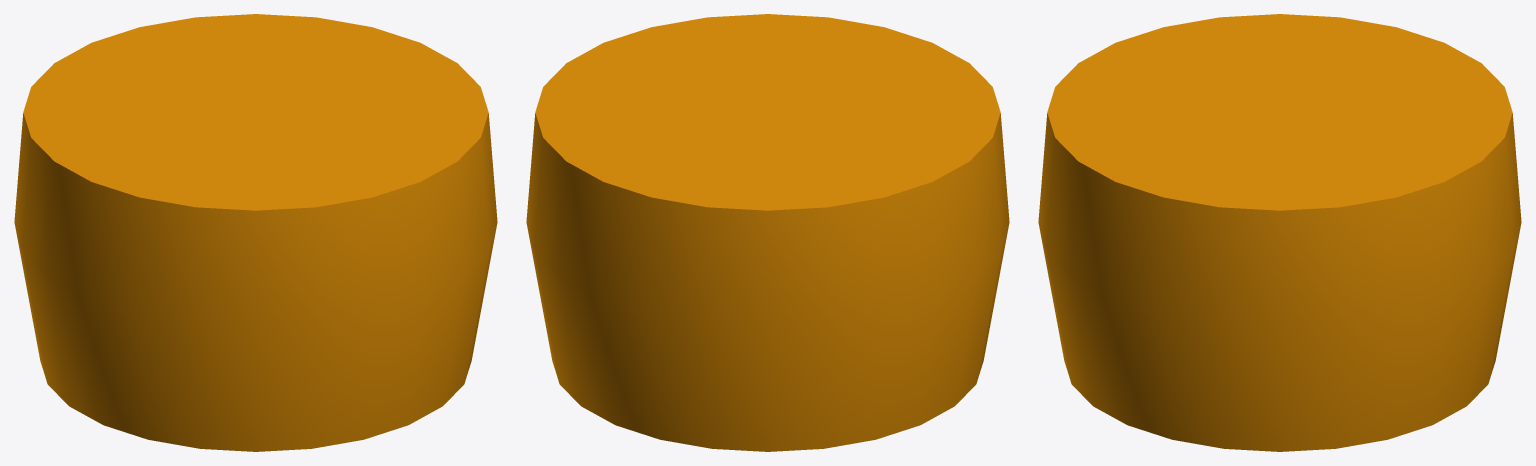
Rendered from WiskeyCup_Liquid.fbx.
The picture shows the model from 3 angles, left to right: view 1: azimuth 30°, elevation 25°; view 2: azimuth 150°, elevation 25°; view 3: azimuth 270°, elevation 25°; orthographic projection.
Visible parts, largest first — view 1: WiskeyCup.001; view 2: WiskeyCup.001; view 3: WiskeyCup.001.
Part boxes in pixels (x1,y1,x2,y2): WiskeyCup.001: (14,14,497,451); WiskeyCup.001: (526,14,1009,451); WiskeyCup.001: (1038,14,1521,451).
Size of the model in its own units: 285 by 162 by 285.
